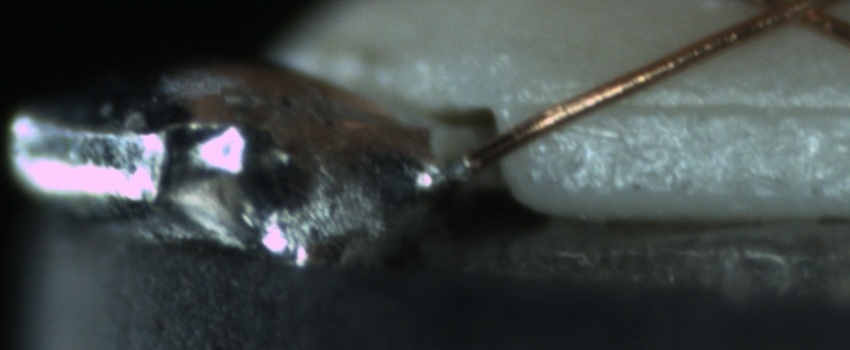CL: (741, 2, 836, 32)
DL: (555, 76, 846, 142)
